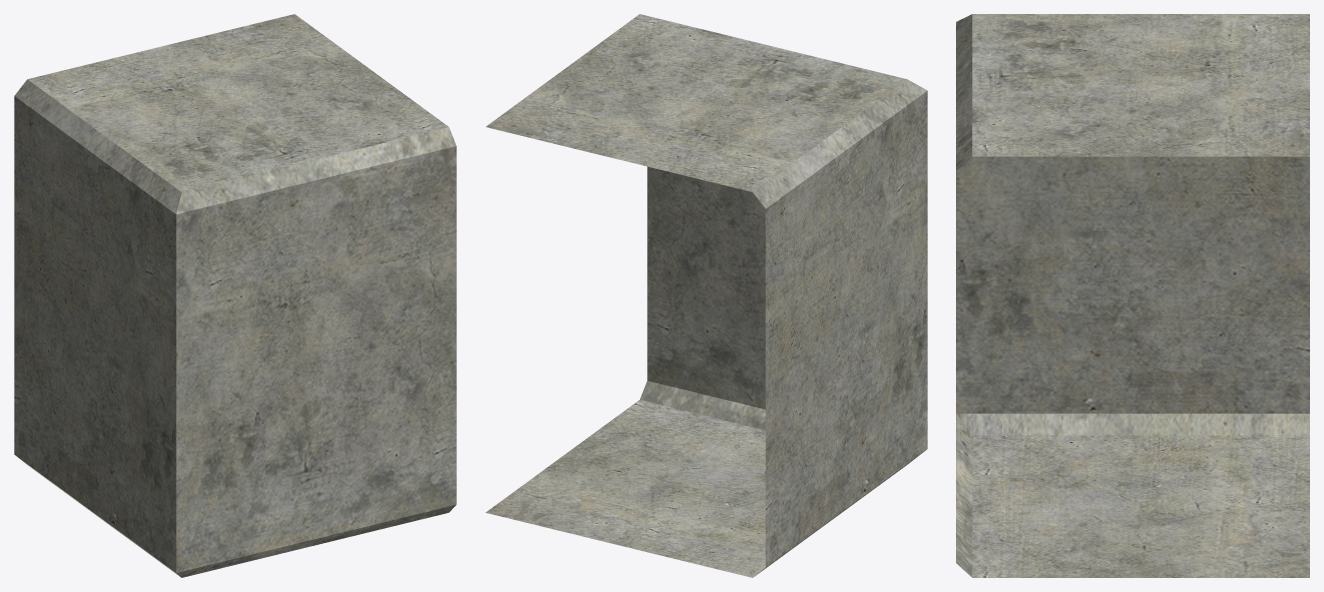
File: CT_Building_Trim_Corner_01.fbx
3 views of the same model, side by side, from view 1: azimuth 30°, elevation 25°; view 2: azimuth 150°, elevation 25°; view 3: azimuth 270°, elevation 25° (orthographic). The views are drawn at different scales.
Visible parts, largest first — view 1: CT_Building_Trim_Corner_01; view 2: CT_Building_Trim_Corner_01; view 3: CT_Building_Trim_Corner_01.
Part boxes in pixels (<box>): CT_Building_Trim_Corner_01: <box>14,14,456,577</box>; CT_Building_Trim_Corner_01: <box>485,14,927,577</box>; CT_Building_Trim_Corner_01: <box>956,14,1309,577</box>.
Bounding box in the file's own units: 21.65 × 28.46 × 21.65.
